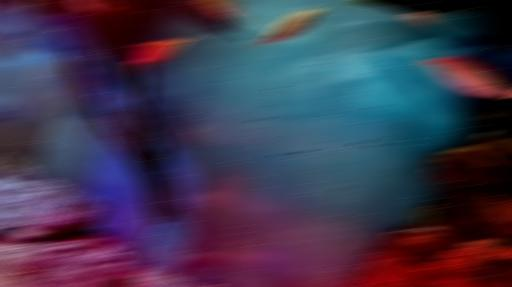Fish: (422, 56, 511, 97), (251, 6, 321, 49), (127, 37, 194, 70), (187, 0, 252, 26), (401, 13, 444, 31), (370, 274, 394, 286), (0, 9, 19, 13)
